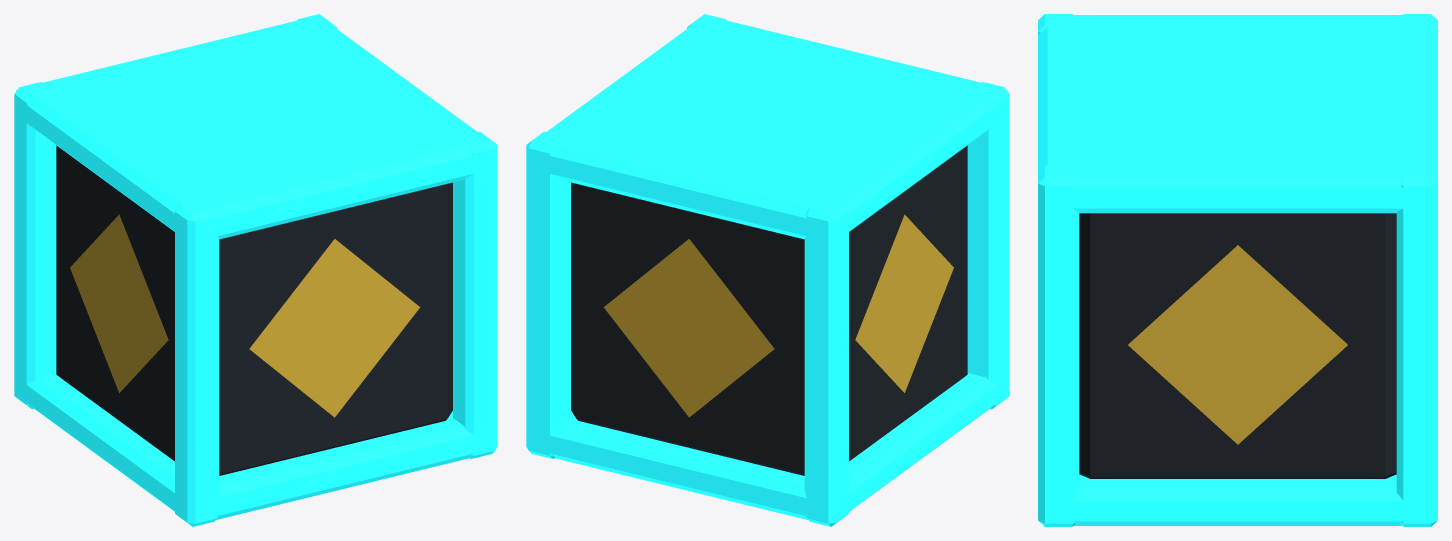
The model's file is item_pickup_crate.glb.
3 renders of one model, left to right at view 1: azimuth 30°, elevation 25°; view 2: azimuth 150°, elevation 25°; view 3: azimuth 270°, elevation 25°, orthographic. The views are drawn at different scales.
Visible parts, largest first — view 1: item_pickup_crate__static; view 2: item_pickup_crate__static; view 3: item_pickup_crate__static.
Part boxes in pixels (box(x1,y1,x2,y2)): item_pickup_crate__static: box(14, 14, 497, 526); item_pickup_crate__static: box(526, 14, 1009, 526); item_pickup_crate__static: box(1038, 14, 1437, 526).
Size of the model in its own units: 1.45 by 1.4 by 1.45.
